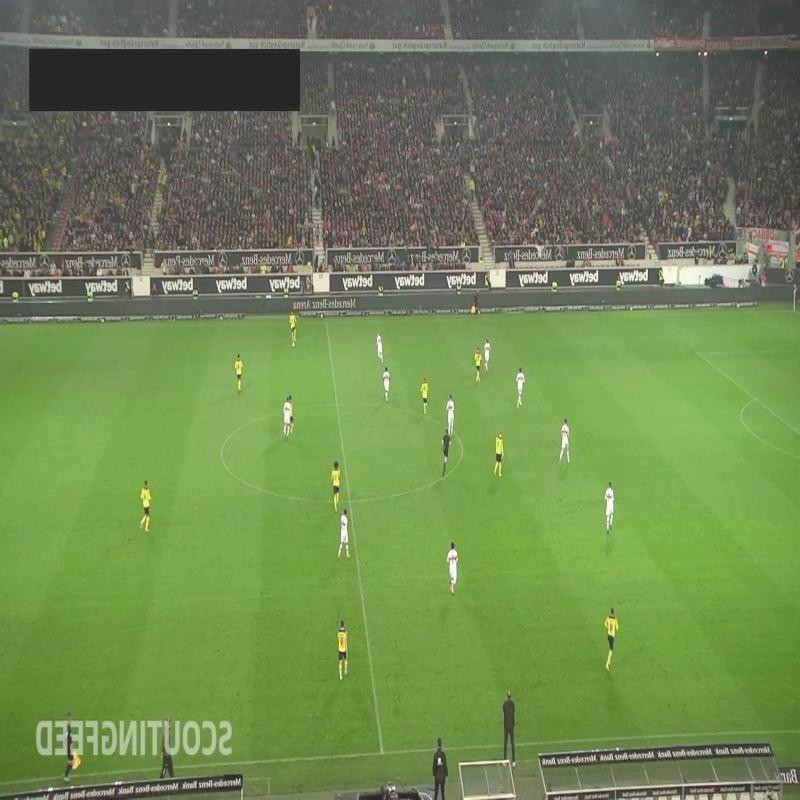1: (787, 304, 800, 318)
10: (746, 390, 760, 404)
13: (318, 316, 332, 330)
14: (330, 398, 344, 412)
15: (340, 493, 359, 509)
16: (372, 743, 392, 763)
9: (691, 345, 705, 359)
c: (211, 445, 231, 461), (454, 438, 469, 452)
